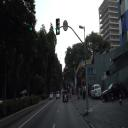speed_limit_50: (63, 20, 68, 32)
